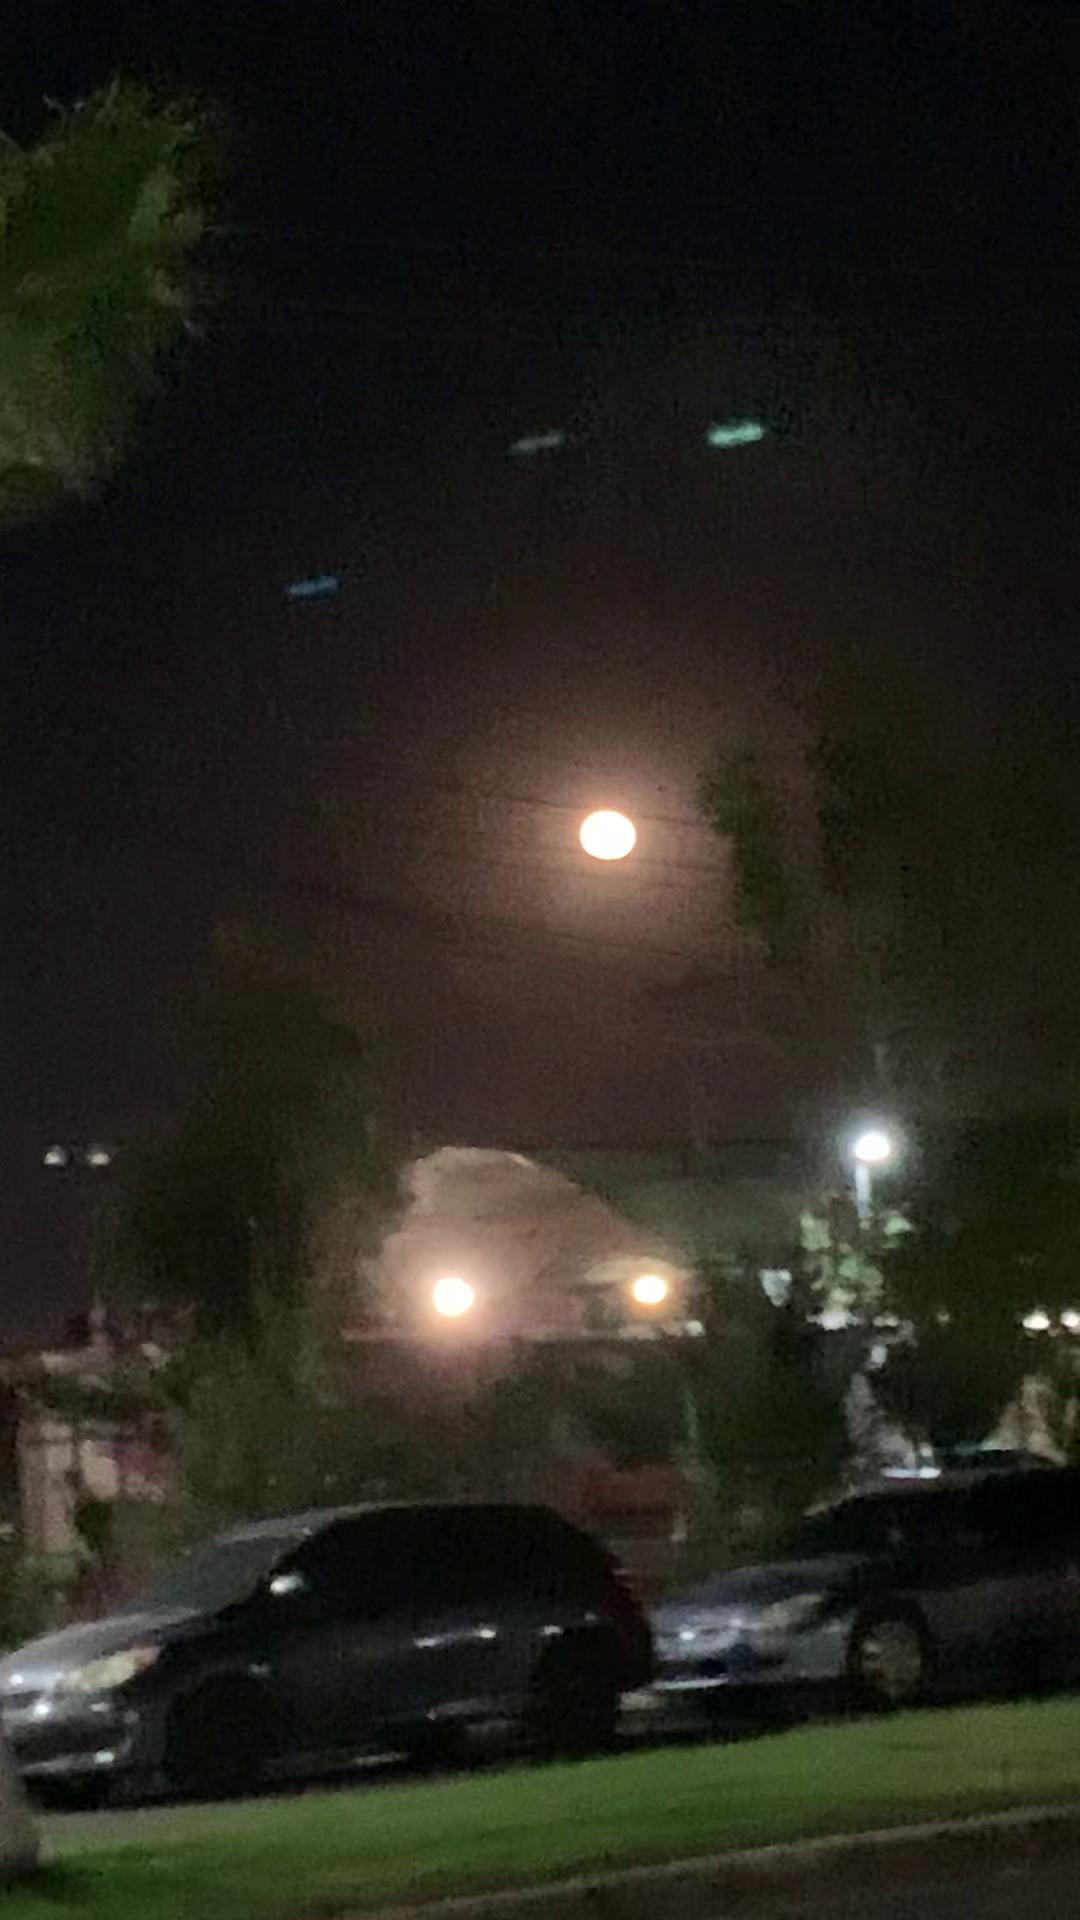moon: (571, 779, 662, 877)
